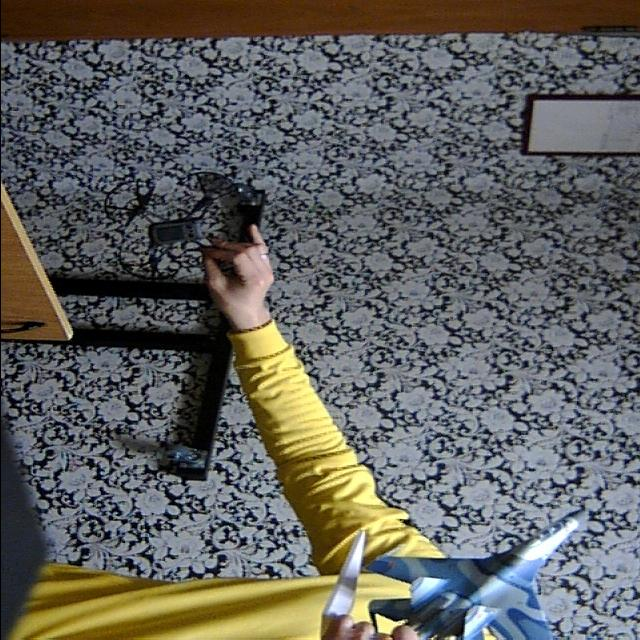drone: (102, 160, 276, 292)
